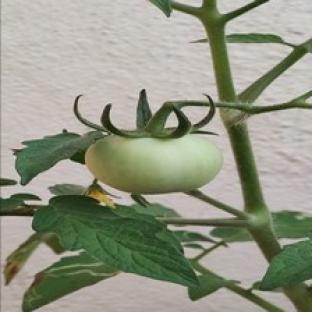Tomato: (85, 134, 222, 193)
